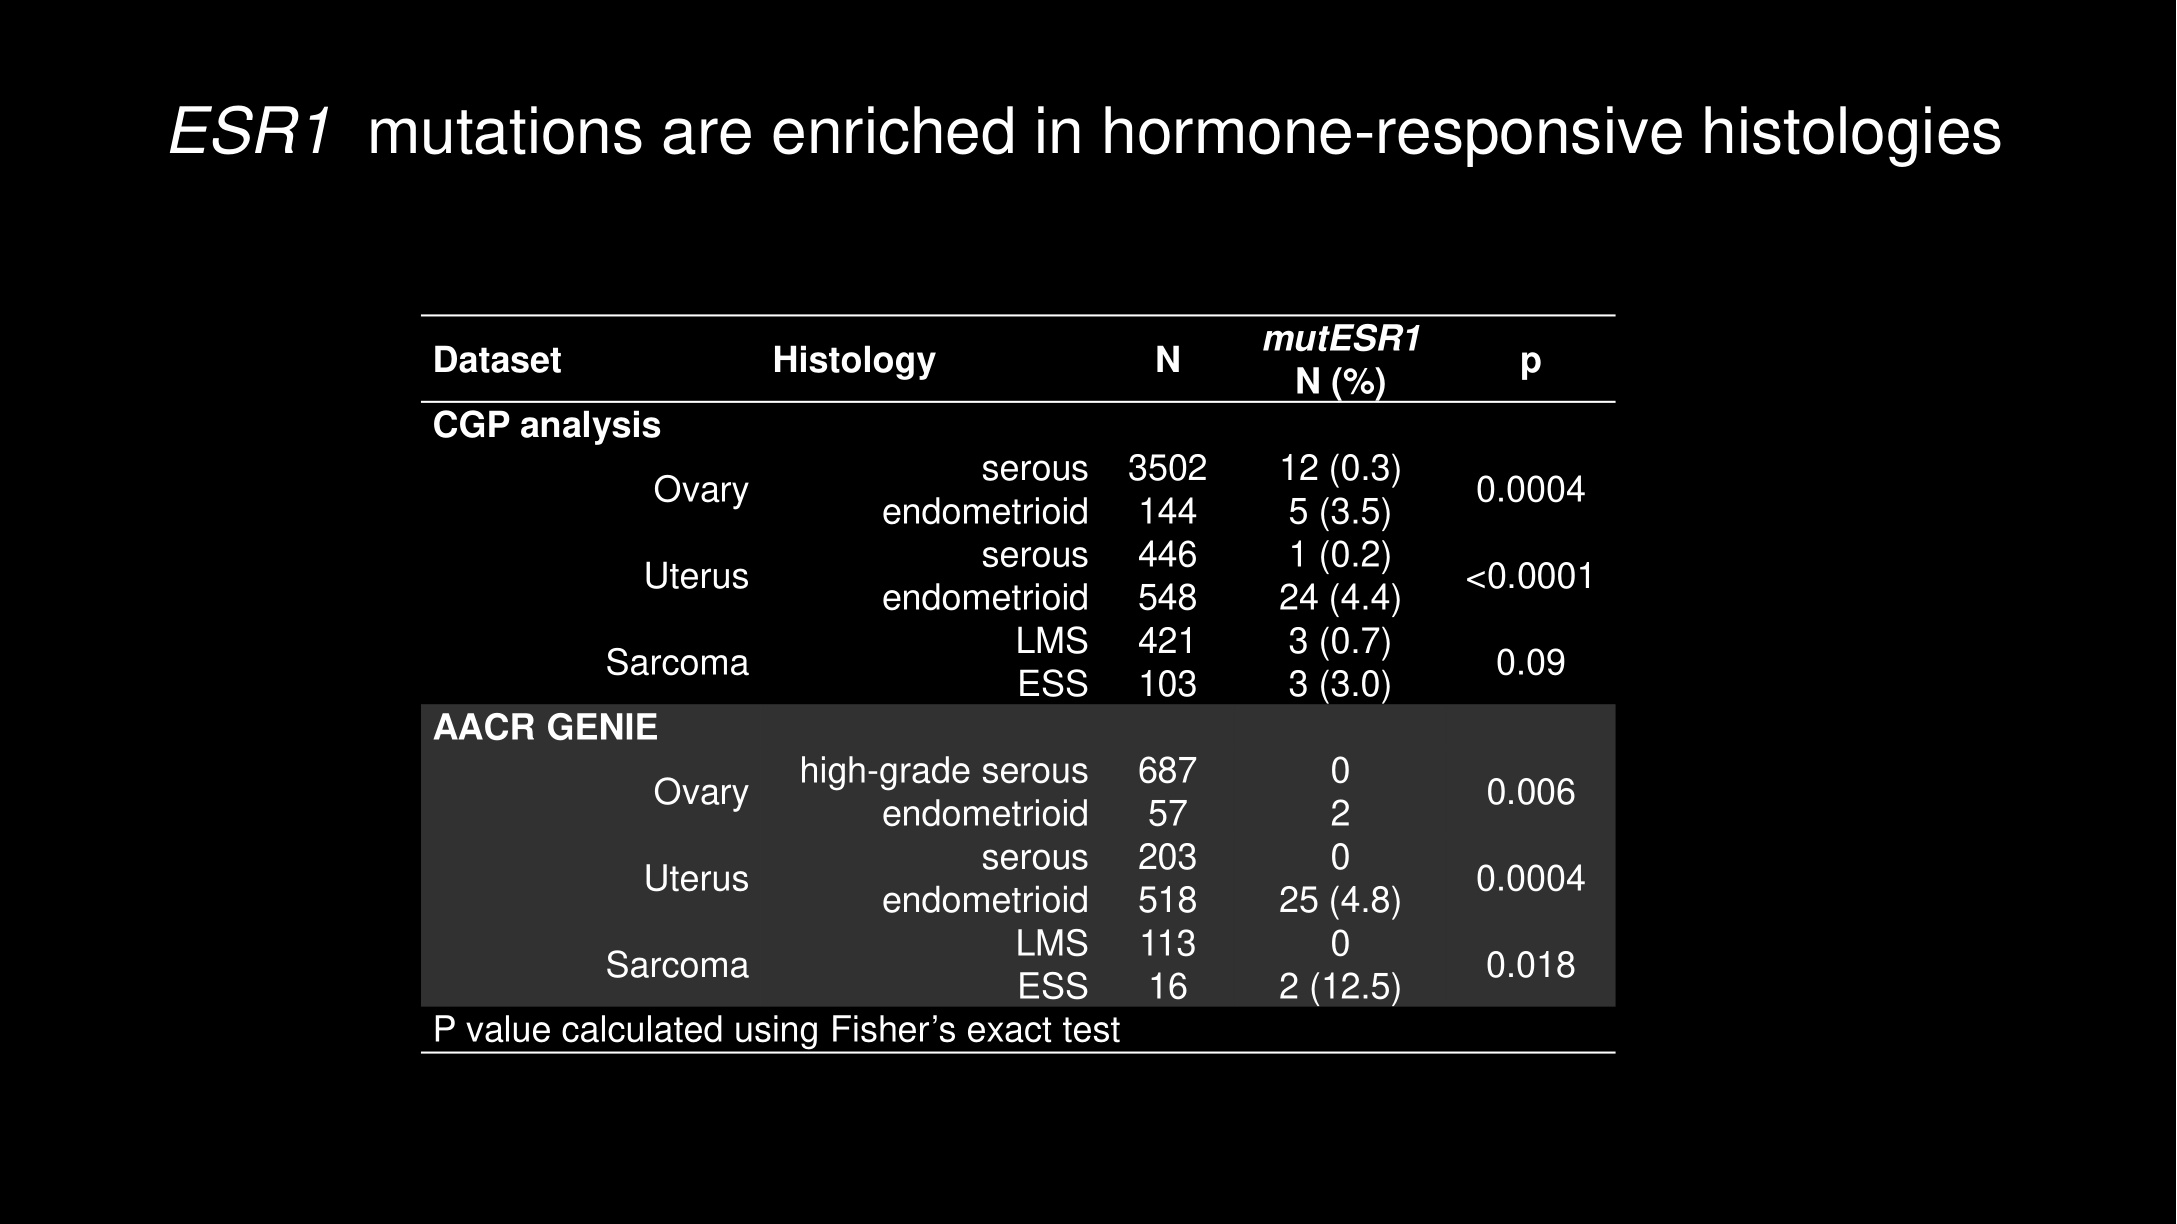partial_lined_merged_cells: (419, 312, 1622, 1058)
